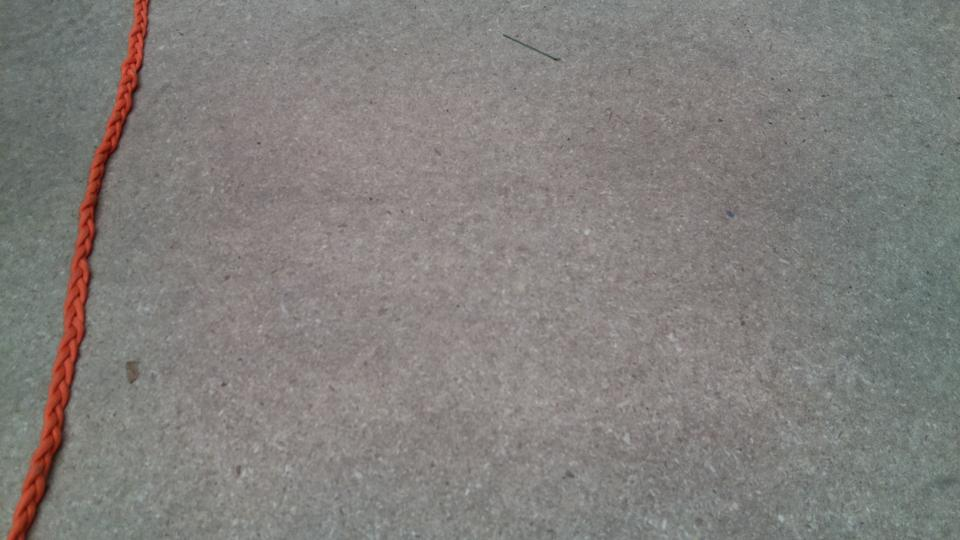rope: (3, 1, 153, 540)
